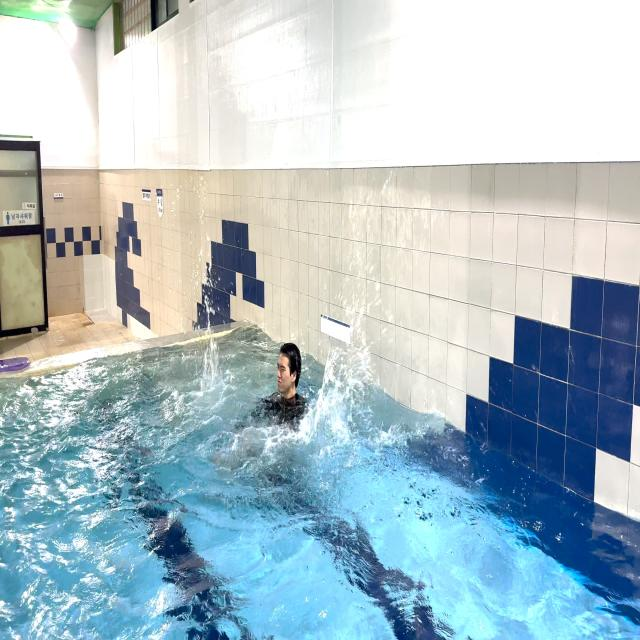Swimming: (194, 319, 373, 467)
